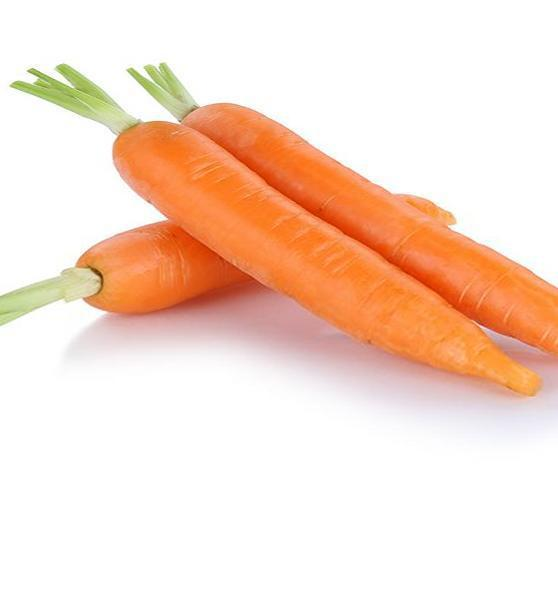carrot: (98, 114, 558, 391), (83, 221, 234, 315)
